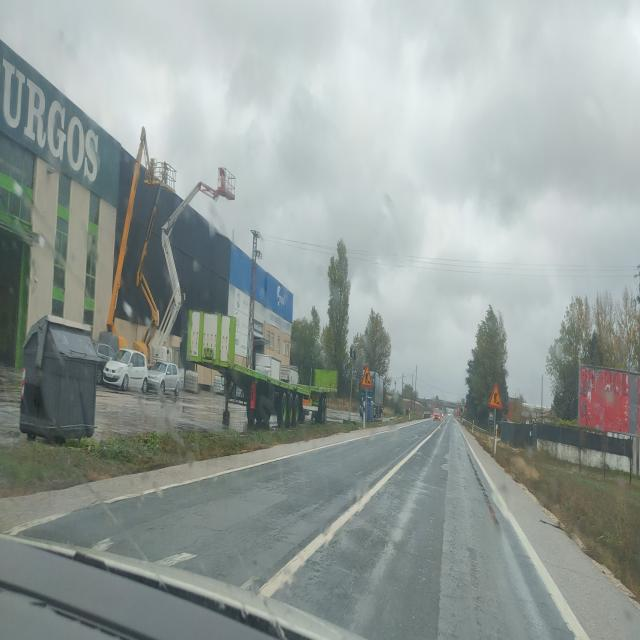Poth-hole: (377, 484, 401, 562), (341, 563, 357, 599), (341, 594, 353, 626)
